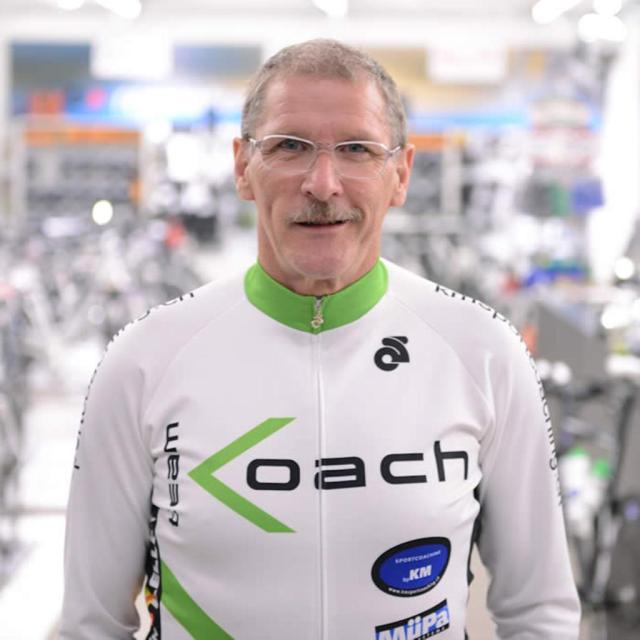Face: (248, 77, 395, 279)
